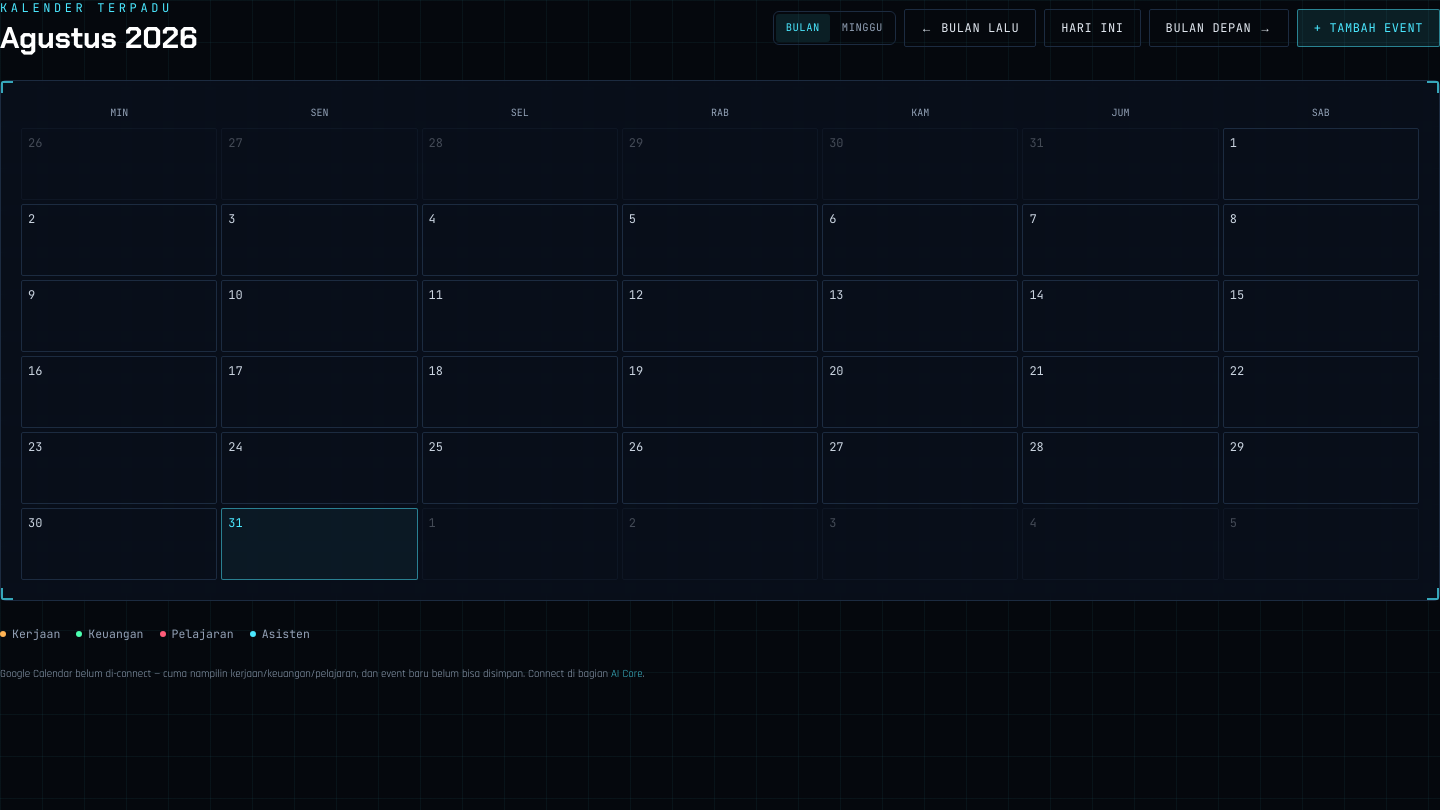
Test: KalenderPage › shows a study session as a Pelajaran item on the day it happened
Click the 2nd button "31" at (319, 544), box [221,508,418,580]
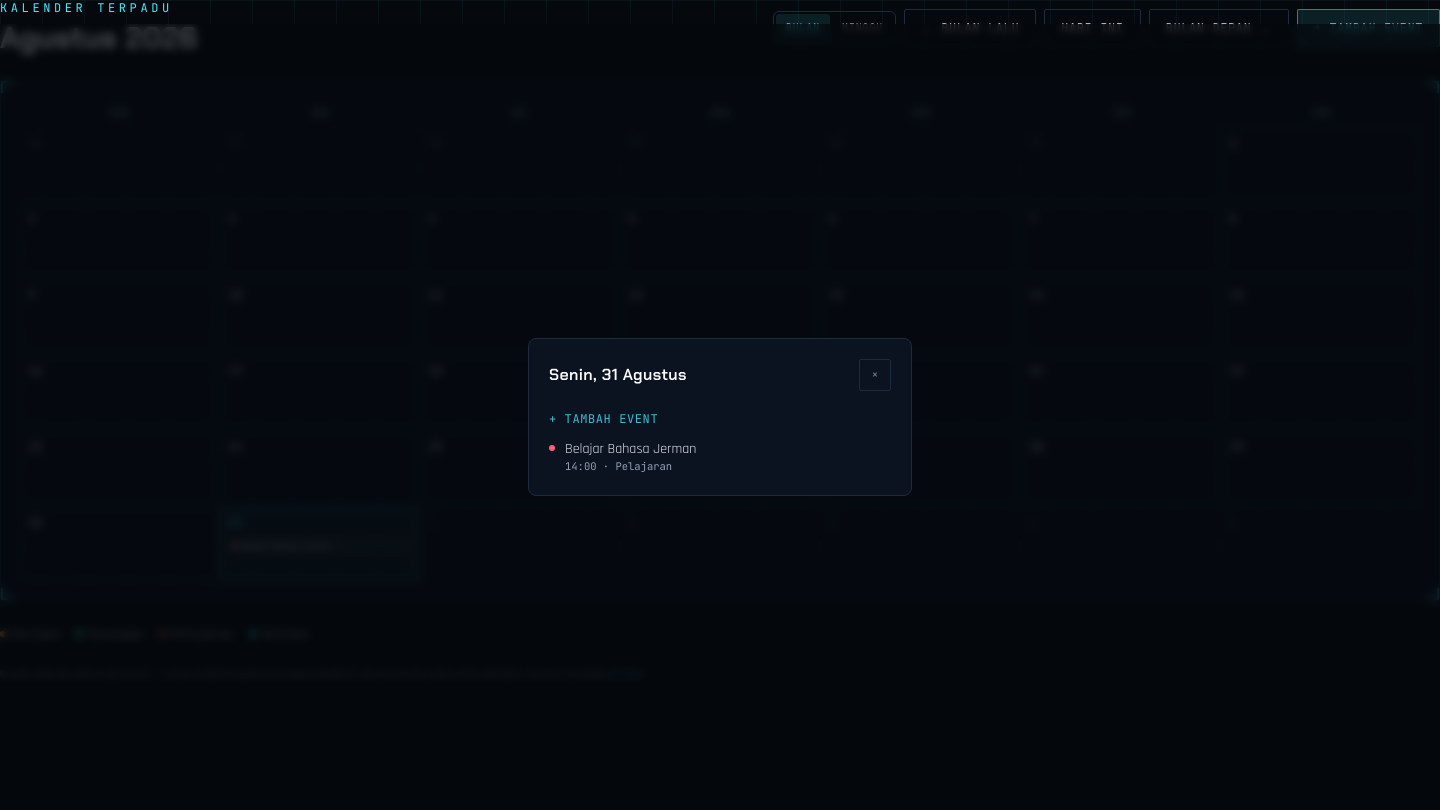
expect the text "14:00 · Pelajaran" is shown: met, box [565,459,672,473]
